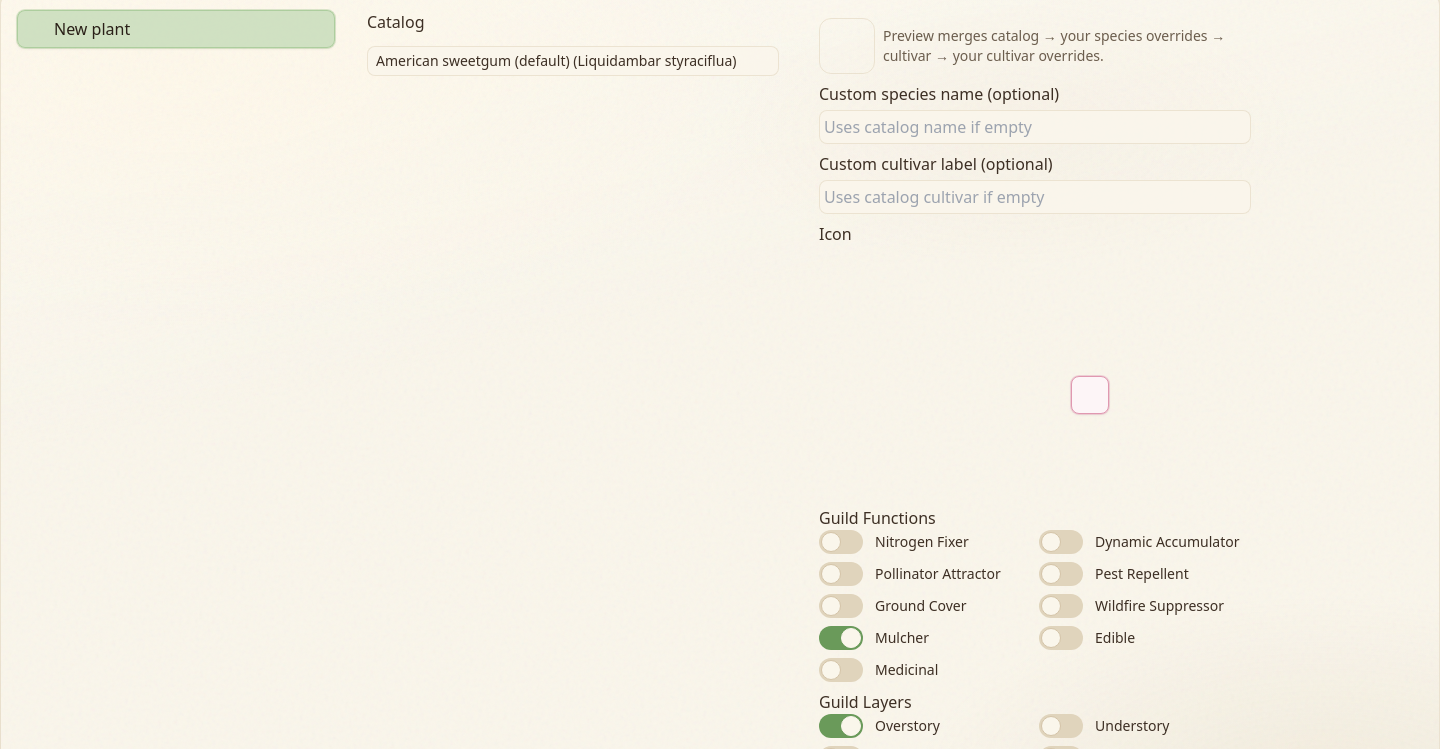
Test: can set custom species name
Type "Herb patch" into the field with placeholder "Uses catalog name if empty" at x=1035, y=127, box [819,110,1251,144]
(page scrolled)
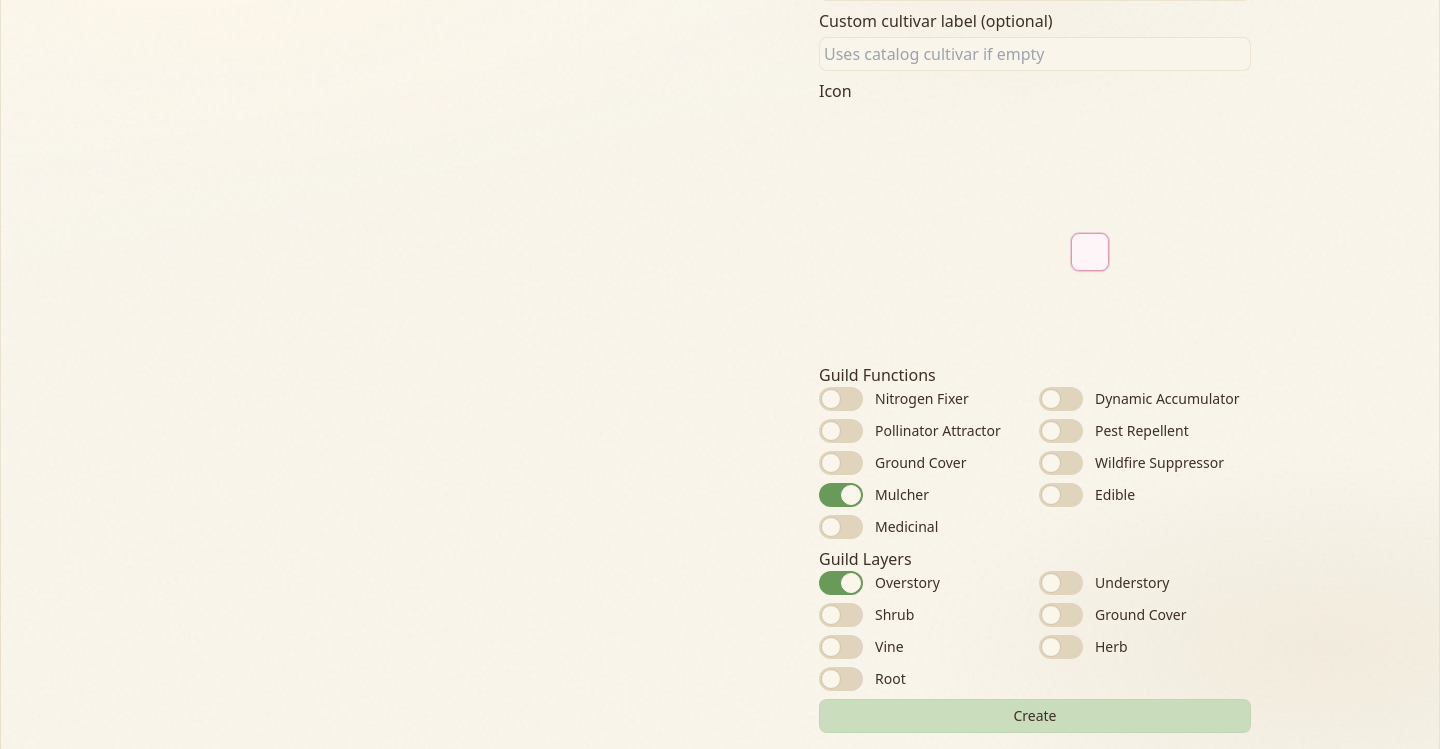
Click the button "Create" at x=1035, y=716, box [819,699,1251,733]
(page scrolled)
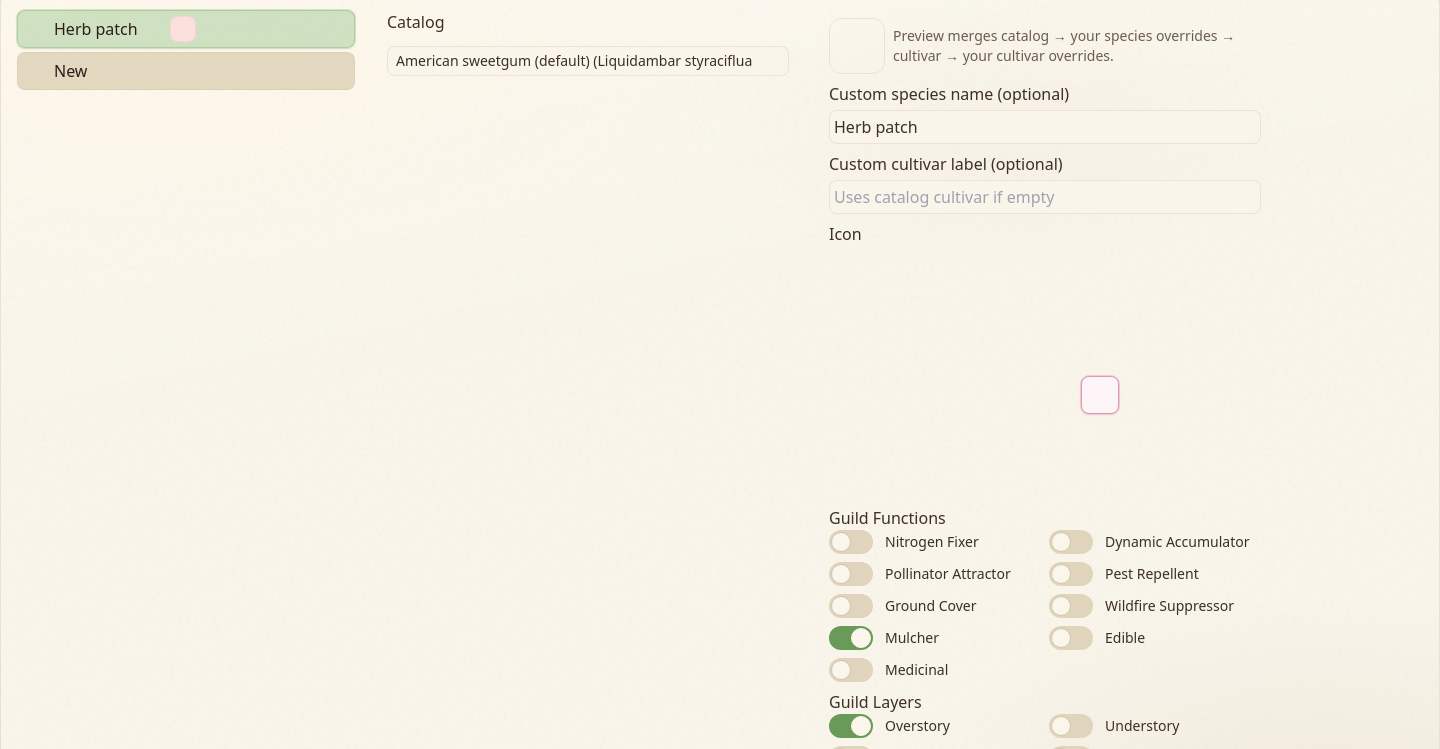
Expected: the text "Herb patch" is shown, [54,18,138,40]
